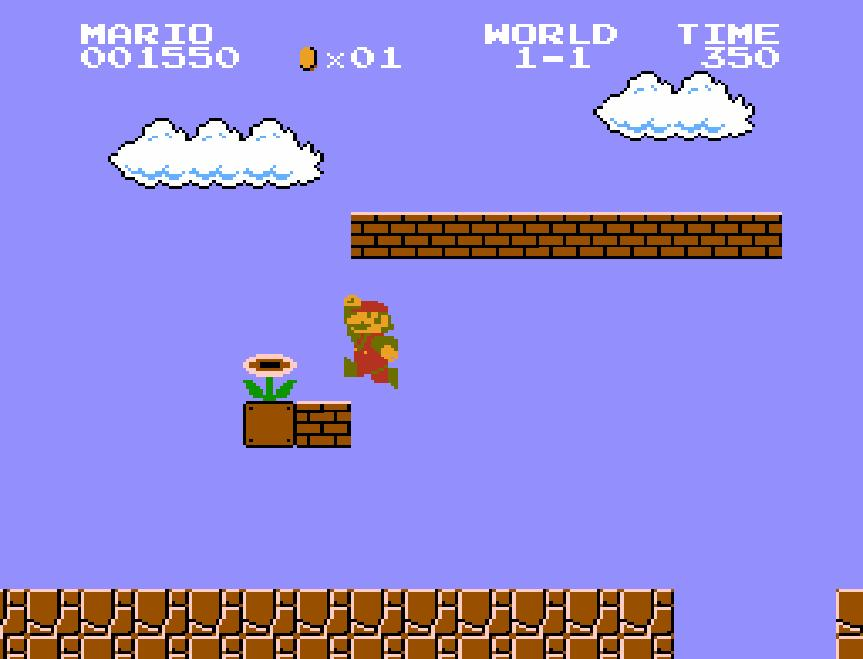big_mario: (342, 292, 400, 390)
